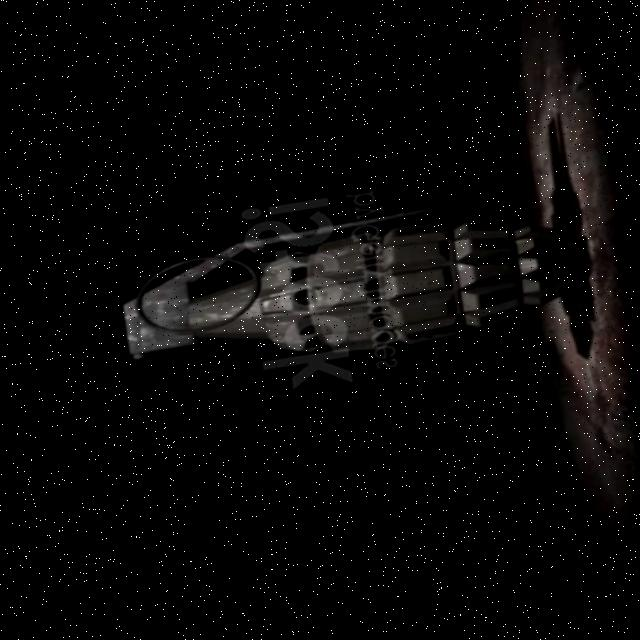grenade: (99, 193, 583, 398)
